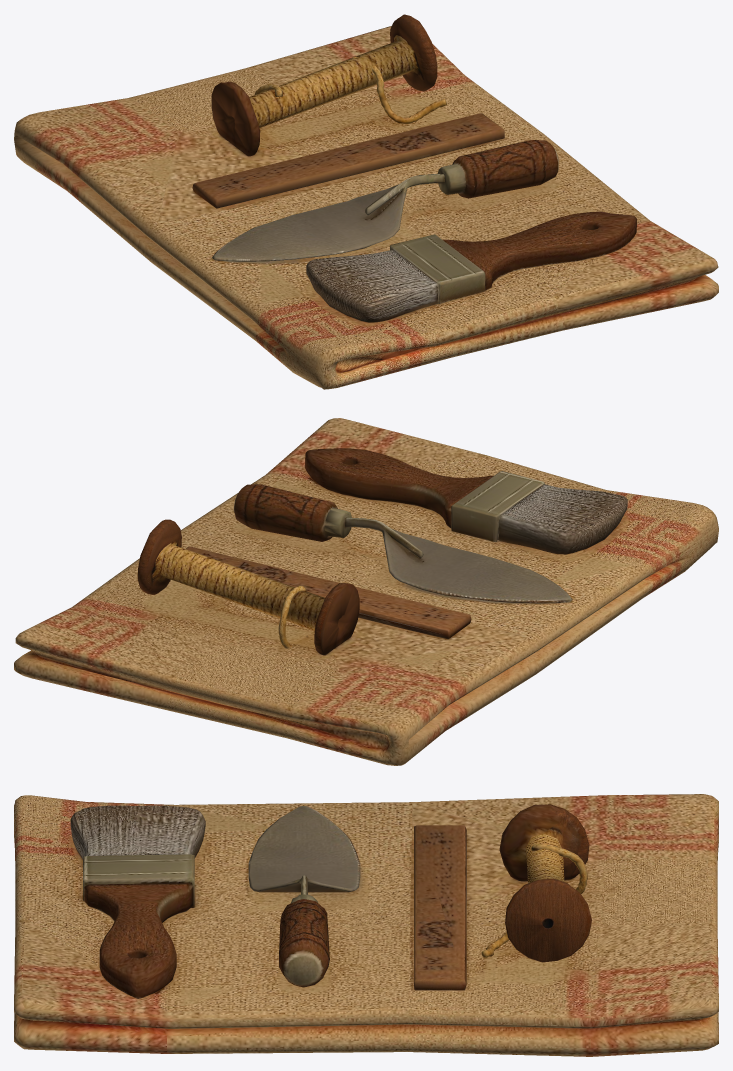
The model's file is tripo_convert_79068d93-d86c-4267-91da-ae60e8f4baae.fbx.
3 views of the same model, one above another, from view 1: azimuth 30°, elevation 25°; view 2: azimuth 150°, elevation 25°; view 3: azimuth 270°, elevation 25° (orthographic). The views are drawn at different scales.
Visible parts, largest first — view 1: tripo_node_79068d93; view 2: tripo_node_79068d93; view 3: tripo_node_79068d93.
Part boxes in pixels (x1,y1,x2,y2): tripo_node_79068d93: (14,14,718,389); tripo_node_79068d93: (14,418,718,765); tripo_node_79068d93: (14,794,718,1056).
Bounding box in the file's own units: 0.7441 × 0.2168 × 0.998.
Materials: 1 (1 with a texture image).
